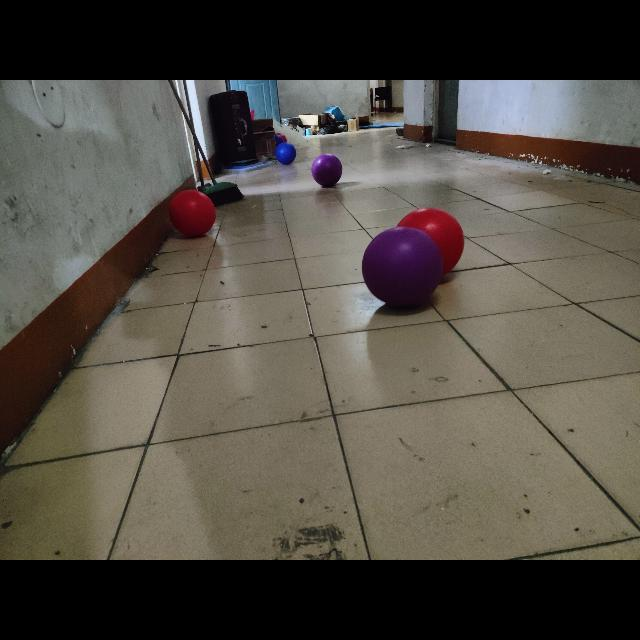B: (275, 144, 299, 166), (266, 134, 284, 150)
P: (361, 226, 444, 308), (312, 154, 342, 186)
R: (390, 207, 464, 281), (168, 190, 216, 237), (270, 132, 288, 148)
